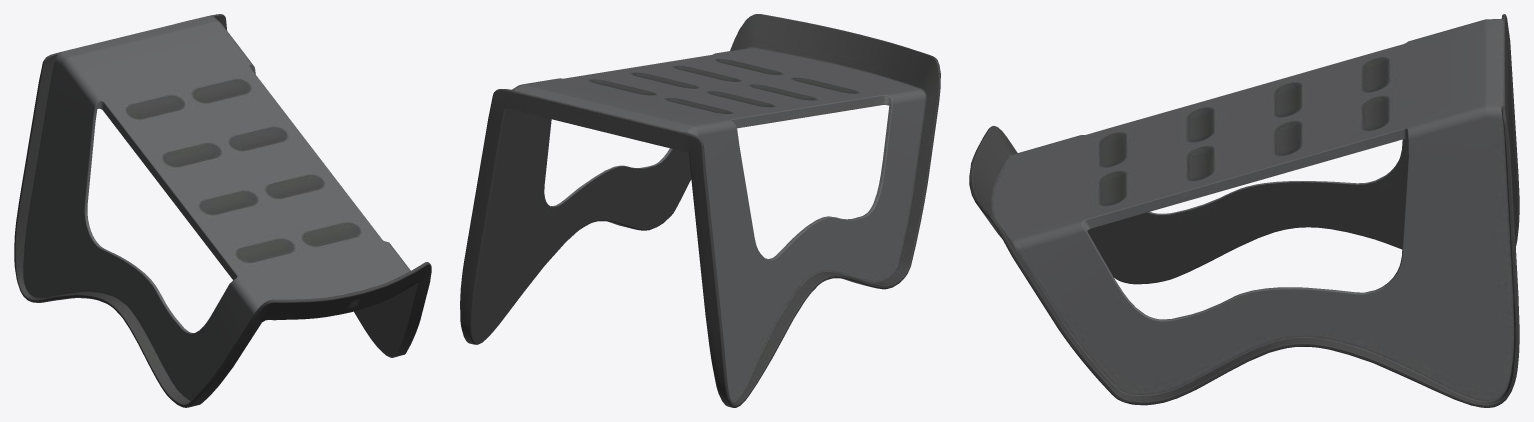
3 views of the same model, side by side, from view 1: azimuth 30°, elevation 25°; view 2: azimuth 150°, elevation 25°; view 3: azimuth 270°, elevation 25° (orthographic). The views are drawn at different scales.
Parts seen in each view (by area): view 1: model; view 2: model; view 3: model.
Part boxes in pixels (<box>): model: <box>14,14,431,407</box>; model: <box>460,14,940,407</box>; model: <box>969,14,1519,407</box>.
Bounding box in the file's own units: 0.1441 × 0.1389 × 0.2484.
1 material, 1 textured.
